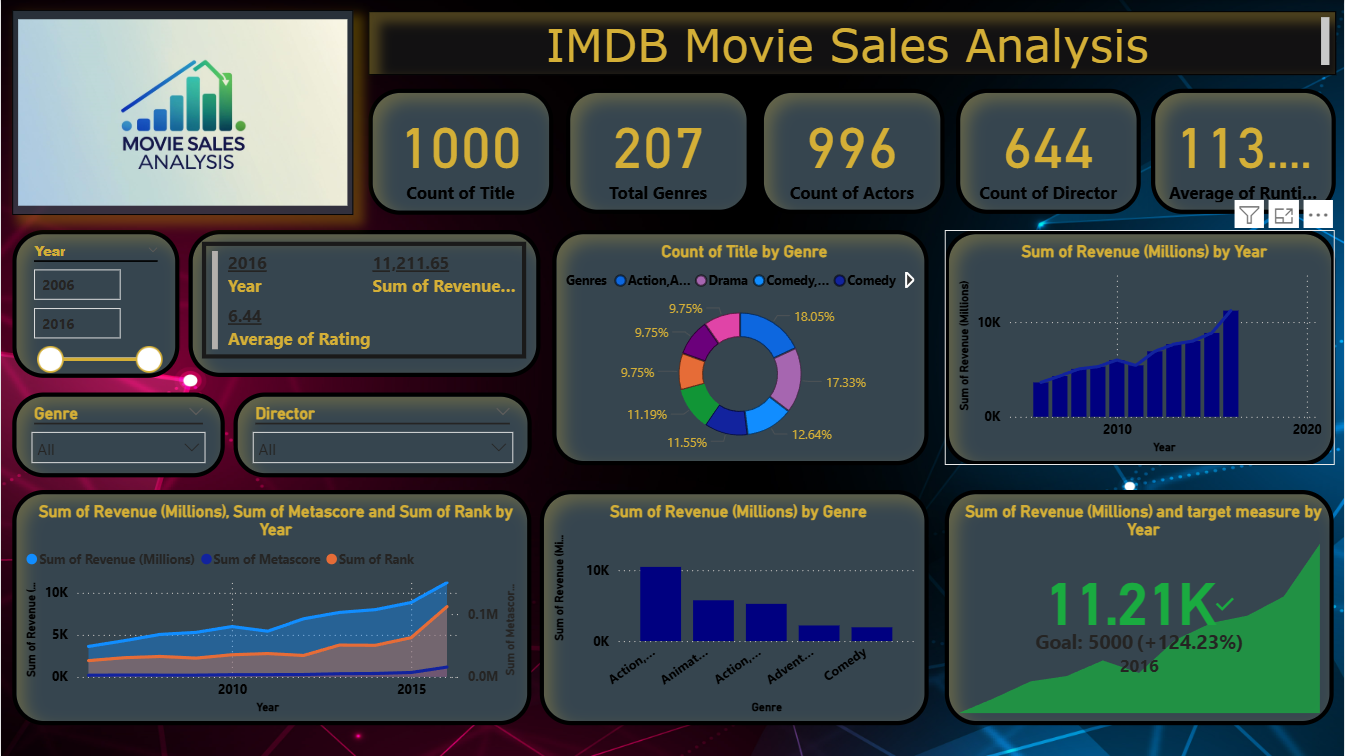

This screenshot's page, from the dashboard's own definition file:
{"tool":"powerbi","page":{"name":"Page 5","canvas":[1280,720],"ordinal":4},"visuals":[{"type":"textbox","box":[350,10.7,921.4,60.7],"z":0},{"type":"card","fields":{"Values":["IMDB-Movie-Data.Total Genres"]},"box":[537.9,85.1,175.6,119.4],"z":1000},{"type":"card","fields":{"Values":["IMDB-Movie-Data.Title"]},"box":[349.9,85.1,175.6,120],"z":2000},{"type":"card","fields":{"Values":["IMDB-Movie-Data.Actors"]},"box":[723.2,85.1,175.6,119.4],"z":3000},{"type":"card","fields":{"Values":["IMDB-Movie-Data.Director"]},"box":[909.8,85.1,175.6,119.4],"z":4000},{"type":"card","fields":{"Values":["IMDB-Movie-Data.Runtime (Minutes)"]},"box":[1095,85.1,175.6,119.4],"z":5000},{"type":"lineStackedColumnComboChart","title":"Sum of Revenue (Millions)  by Year","fields":{"Category":["IMDB-Movie-Data.Year"],"Y2":["IMDB-Movie-Data.Revenue (Millions)"],"Y":["IMDB-Movie-Data.Revenue (Millions)"]},"box":[898.8,219.6,371.9,223.7],"z":6000},{"type":"donutChart","fields":{"Category":["IMDB-Movie-Data.Genre"],"Y":["IMDB-Movie-Data.Title"]},"box":[525.6,219.6,358.1,223.7],"z":7000},{"type":"kpi","fields":{"Indicator":["IMDB-Movie-Data.Revenue (Millions)"],"Goal":["IMDB-Movie-Data.Avg revenue target measure"],"TrendLine":["IMDB-Movie-Data.Year"]},"box":[898.8,466.6,370.5,223.7],"z":8000},{"type":"slicer","fields":{"Values":["IMDB-Movie-Data.Year"]},"box":[10.7,219,159.5,140.5],"z":9000},{"type":"multiRowCard","fields":{"Values":["IMDB-Movie-Data.Year","IMDB-Movie-Data.Revenue (Millions)","IMDB-Movie-Data.Rating"]},"box":[178.4,219.6,334.8,140],"z":10000},{"type":"clusteredColumnChart","fields":{"Y":["IMDB-Movie-Data.Revenue (Millions)"],"Category":["IMDB-Movie-Data.Genre"]},"box":[513.2,466.6,370.5,223.7],"z":11000},{"type":"areaChart","fields":{"Category":["IMDB-Movie-Data.Year"],"Y2":["IMDB-Movie-Data.Metascore","IMDB-Movie-Data.Rank"],"Y":["IMDB-Movie-Data.Revenue (Millions)"]},"box":[10.7,466.7,494.1,223.8],"z":12000},{"type":"slicer","fields":{"Values":["IMDB-Movie-Data.Director"]},"box":[220.9,373.2,284,81],"z":13000},{"type":"slicer","fields":{"Values":["IMDB-Movie-Data.Genre"]},"box":[10.7,373.8,202.4,81],"z":14000},{"type":"image","box":[10.7,9.5,325,195.2],"z":15000}]}

Visuals, with their boxes in screenshot pixels (x1, y1, x2, y2), scaled from the page's 1280x720 canvas onto the 1345x756 screenshot:
textbox: <bbox>368, 11, 1336, 75</bbox>
card - IMDB-Movie-Data.Total Genres: <bbox>565, 89, 750, 215</bbox>
card - IMDB-Movie-Data.Title: <bbox>368, 89, 552, 215</bbox>
card - IMDB-Movie-Data.Actors: <bbox>760, 89, 944, 215</bbox>
card - IMDB-Movie-Data.Director: <bbox>956, 89, 1141, 215</bbox>
card - IMDB-Movie-Data.Runtime (Minutes): <bbox>1151, 89, 1335, 215</bbox>
"Sum of Revenue (Millions)  by Year" lineStackedColumnComboChart: <bbox>944, 231, 1335, 465</bbox>
donutChart - IMDB-Movie-Data.Genre x IMDB-Movie-Data.Title: <bbox>552, 231, 929, 465</bbox>
kpi - IMDB-Movie-Data.Revenue (Millions) x IMDB-Movie-Data.Avg revenue target measure: <bbox>944, 490, 1334, 725</bbox>
slicer - IMDB-Movie-Data.Year: <bbox>11, 230, 179, 377</bbox>
multiRowCard - IMDB-Movie-Data.Year x IMDB-Movie-Data.Revenue (Millions): <bbox>187, 231, 539, 378</bbox>
clusteredColumnChart - IMDB-Movie-Data.Revenue (Millions) x IMDB-Movie-Data.Genre: <bbox>539, 490, 929, 725</bbox>
areaChart - IMDB-Movie-Data.Year x IMDB-Movie-Data.Metascore: <bbox>11, 490, 530, 725</bbox>
slicer - IMDB-Movie-Data.Director: <bbox>232, 392, 531, 477</bbox>
slicer - IMDB-Movie-Data.Genre: <bbox>11, 392, 224, 478</bbox>
image: <bbox>11, 10, 353, 215</bbox>
